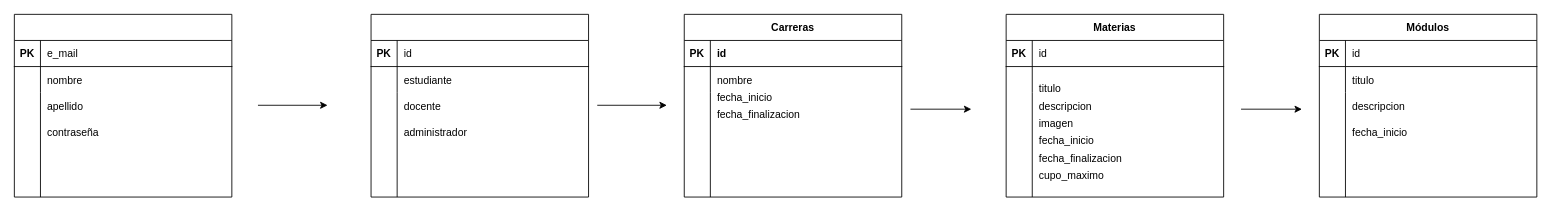
The diagram is 1551 pixels wide and 211 high, and some of its shapes have lost their labels. Each missing label, with the box of its shape:
Categoria: (370, 13, 589, 197)
Usuarios: (13, 13, 232, 197)
